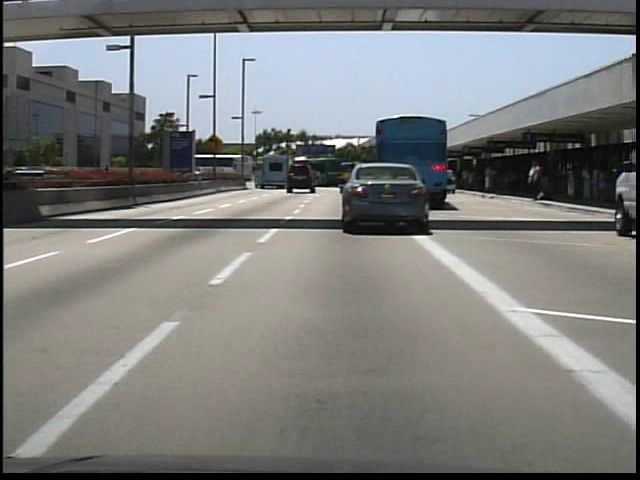person: (526, 157, 544, 203)
